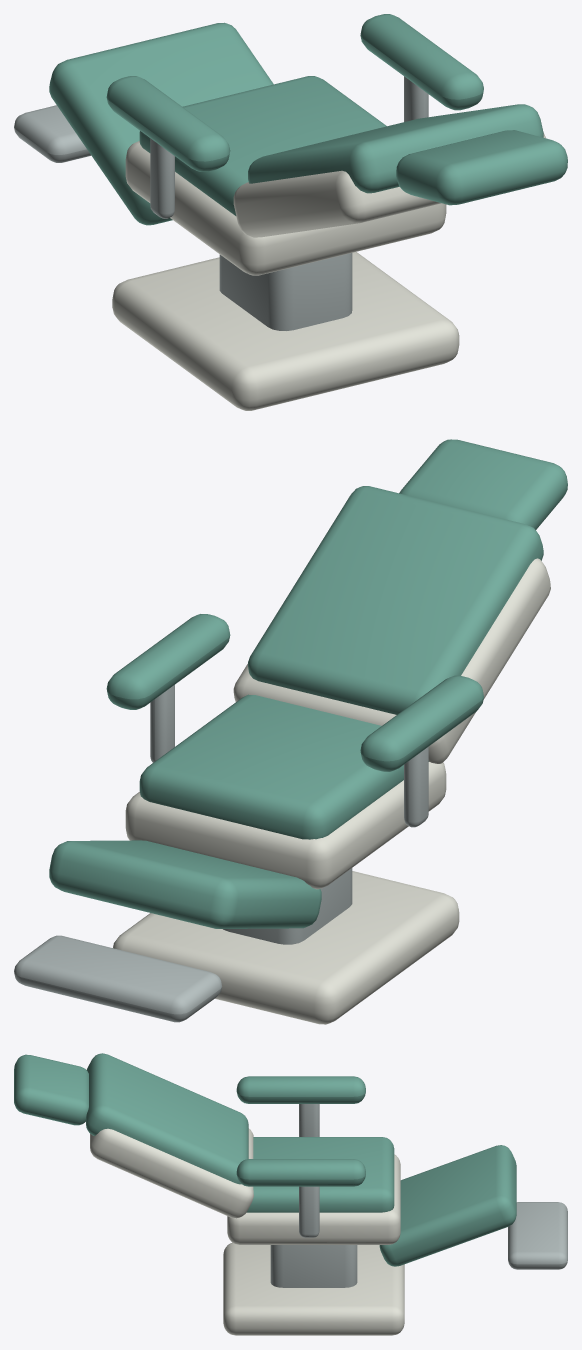
The model's file is chair.glb.
3 views of the same model, one above another, from view 1: azimuth 30°, elevation 25°; view 2: azimuth 150°, elevation 25°; view 3: azimuth 270°, elevation 25° (orthographic). The views are drawn at different scales.
Parts seen in each view (by area): view 1: Weighted base, Leg rest, Seat cushion, Seat shell, Reclined back cushion, Headrest, Reclined back shell, Hydraulic lift, Padded armrest.001, Padded armrest, Footrest, Arm support (+1 smaller); view 2: Reclined back cushion, Seat cushion, Weighted base, Leg rest, Seat shell, Footrest, Headrest, Reclined back shell, Padded armrest, Padded armrest.001, Hydraulic lift, Arm support (+1 smaller); view 3: Weighted base, Reclined back cushion, Leg rest, Seat cushion, Reclined back shell, Seat shell, Headrest, Footrest, Hydraulic lift, Padded armrest, Padded armrest.001, Arm support.001 (+1 smaller).
Boxes of the visible parts, x1,y1,x2,y2 form: Weighted base: [112, 252, 459, 410]; Leg rest: [49, 22, 273, 225]; Seat cushion: [139, 76, 386, 215]; Seat shell: [125, 141, 446, 275]; Reclined back cushion: [248, 104, 543, 193]; Headrest: [396, 130, 567, 205]; Reclined back shell: [233, 133, 545, 237]; Hydraulic lift: [219, 253, 352, 330]; Padded armrest.001: [360, 14, 483, 110]; Padded armrest: [106, 76, 230, 171]; Footrest: [14, 105, 90, 162]; Arm support: [150, 138, 174, 218]; Reclined back cushion: [248, 486, 543, 714]; Seat cushion: [139, 694, 428, 839]; Weighted base: [113, 871, 459, 1024]; Leg rest: [49, 840, 321, 928]; Seat shell: [125, 762, 446, 889]; Footrest: [14, 935, 222, 1022]; Headrest: [399, 439, 567, 529]; Reclined back shell: [233, 558, 550, 763]; Padded armrest: [360, 675, 483, 771]; Padded armrest.001: [106, 614, 230, 709]; Hydraulic lift: [223, 868, 352, 944]; Arm support: [404, 747, 428, 827]; Weighted base: [223, 1242, 404, 1335]; Reclined back cushion: [86, 1053, 248, 1184]; Leg rest: [379, 1145, 516, 1266]; Seat cushion: [246, 1137, 394, 1212]; Reclined back shell: [90, 1128, 253, 1218]; Seat shell: [227, 1154, 400, 1244]; Headrest: [14, 1054, 88, 1125]; Footrest: [508, 1202, 567, 1269]; Hydraulic lift: [270, 1245, 357, 1287]; Padded armrest: [236, 1076, 365, 1103]; Padded armrest.001: [236, 1159, 365, 1186]; Arm support.001: [299, 1186, 319, 1237].
Bounding box in the file's own units: 1.44 × 1.62 × 3.51.
